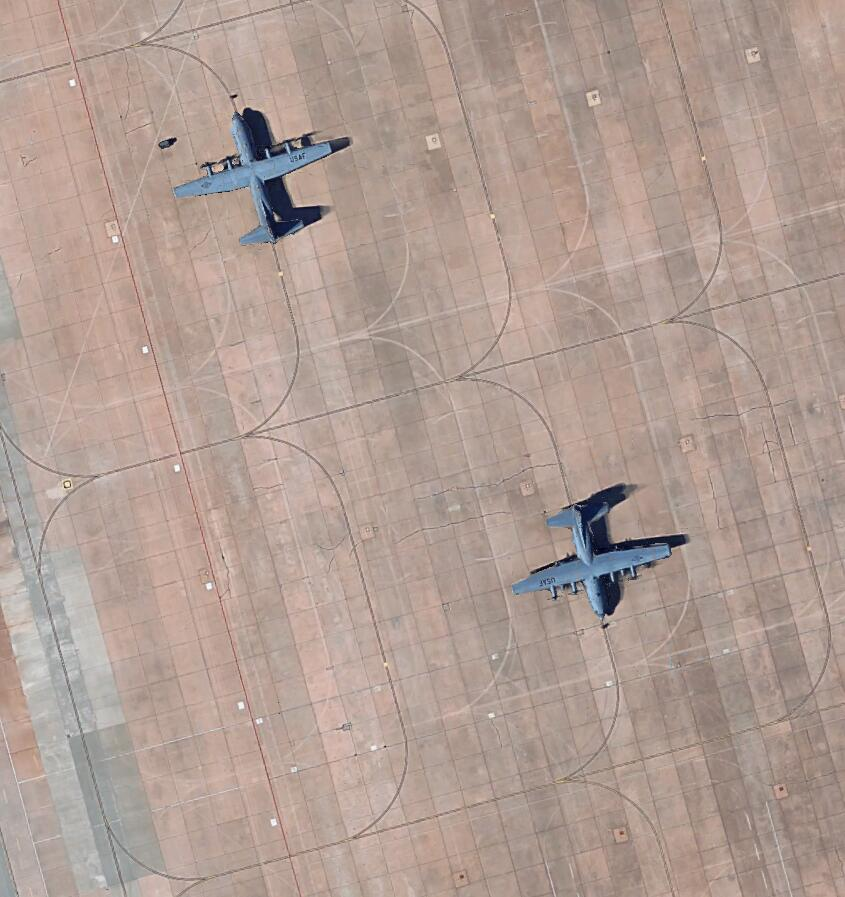A2: (166, 105, 363, 253), (508, 473, 697, 626)
